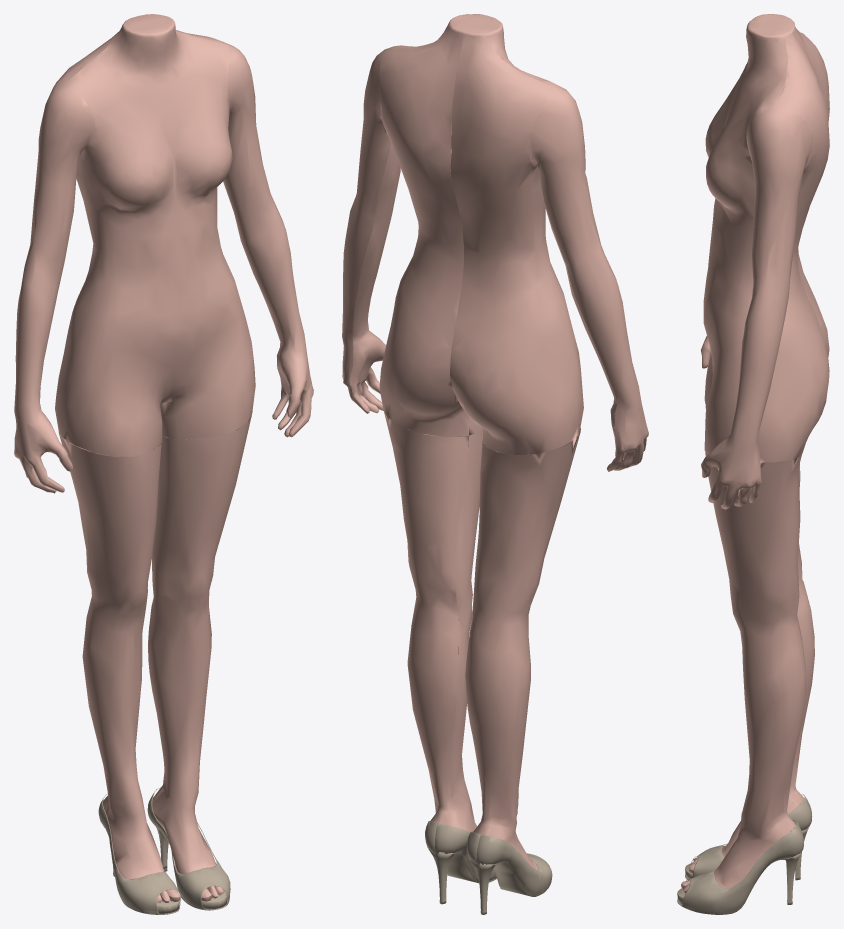
File: womenOnePieceDressBodyModel_noHead_textured.glb
3 views of the same model, side by side, from view 1: azimuth 30°, elevation 25°; view 2: azimuth 150°, elevation 25°; view 3: azimuth 270°, elevation 25° (orthographic). The views are drawn at different scales.
Visible parts, largest first — view 1: body.003; view 2: body.003; view 3: body.003.
Part boxes in pixels (x1=…): body.003: x1=14, y1=14, x2=313, y2=914; body.003: x1=342, y1=14, x2=648, y2=914; body.003: x1=677, y1=14, x2=829, y2=914.
Size of the model in its own units: 57 by 163 by 26.02.
